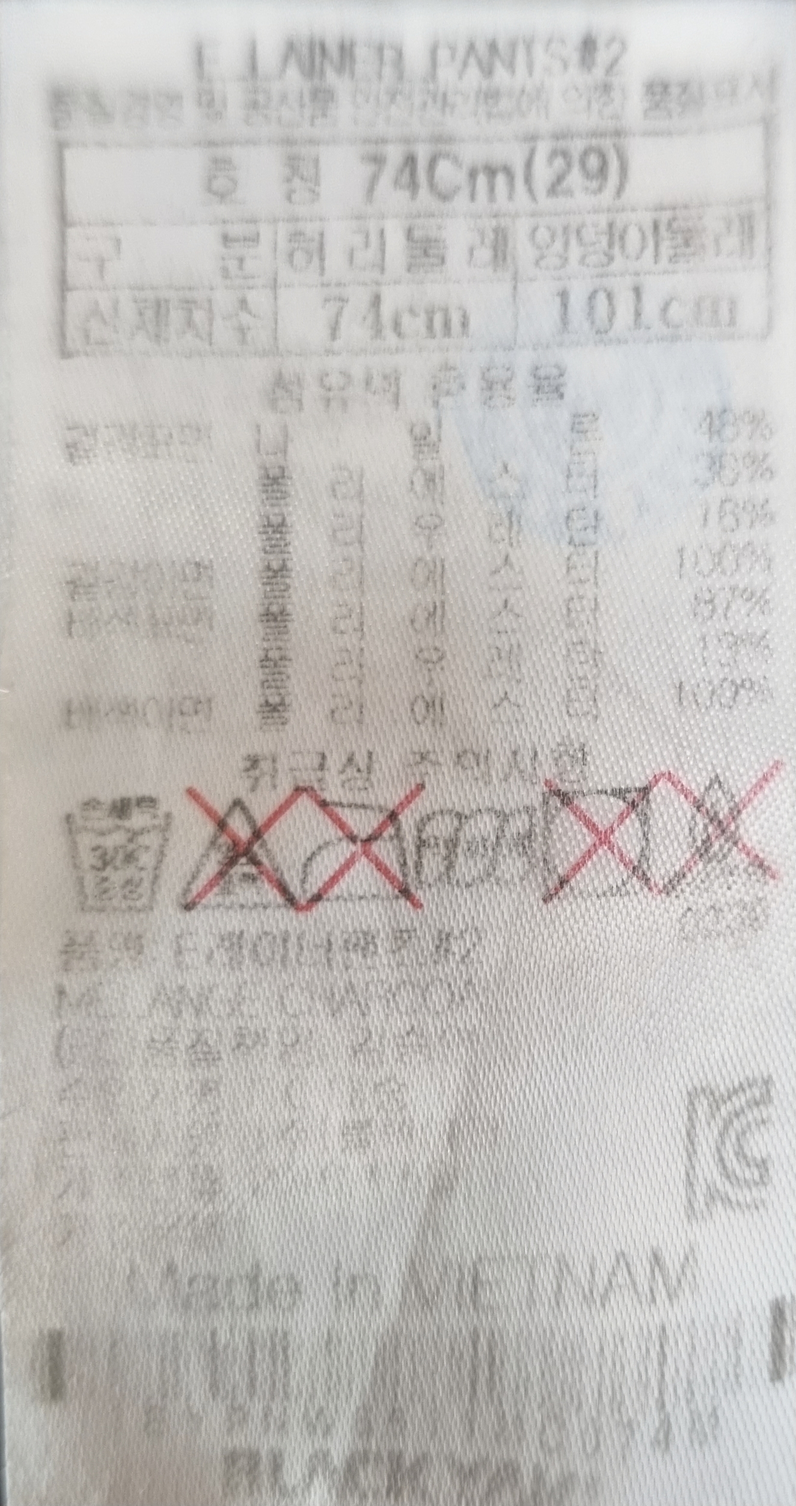KR_gentle_wring: (412, 795, 544, 903)
KR_hand_wash_30_neutral: (53, 784, 182, 924)
KR_no_chlorine_bleach: (182, 779, 299, 919)
KR_no_iron: (300, 788, 418, 910)
KR_no_tumble_dry: (542, 781, 665, 909)
